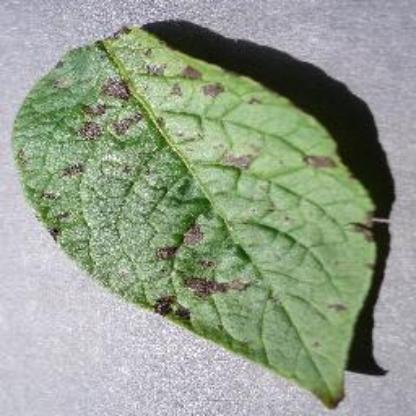Early-Blight: (15, 21, 381, 407)
